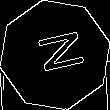N_W: (26, 30, 84, 80)
